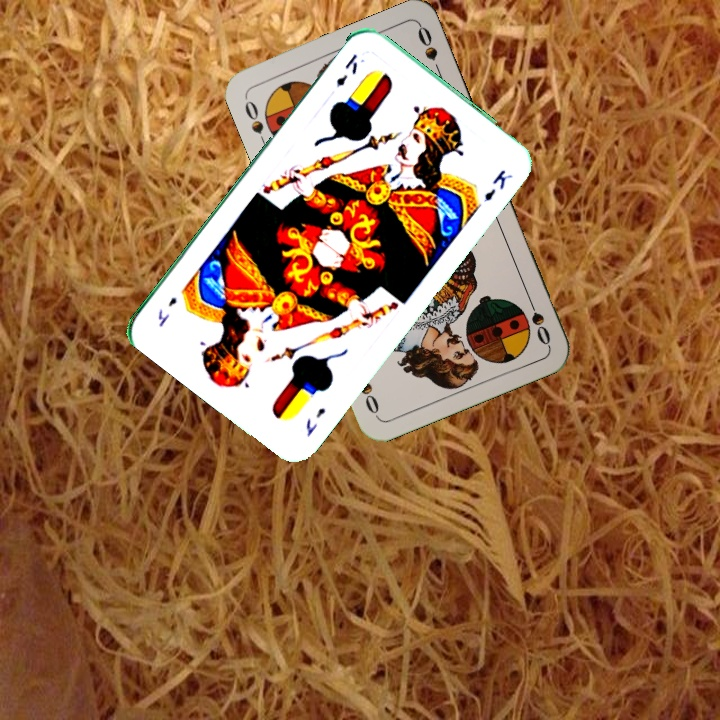EK: (331, 50, 360, 90), (301, 403, 329, 439)
SO: (523, 291, 553, 348), (240, 93, 270, 150)
